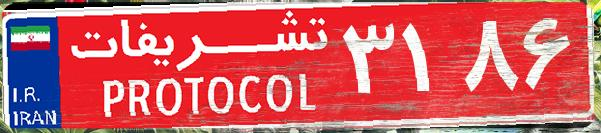1: (400, 20, 460, 115)
3: (340, 20, 400, 115)
6: (520, 20, 580, 115)
8: (460, 20, 520, 115)
تشریفات: (60, 8, 340, 125)
